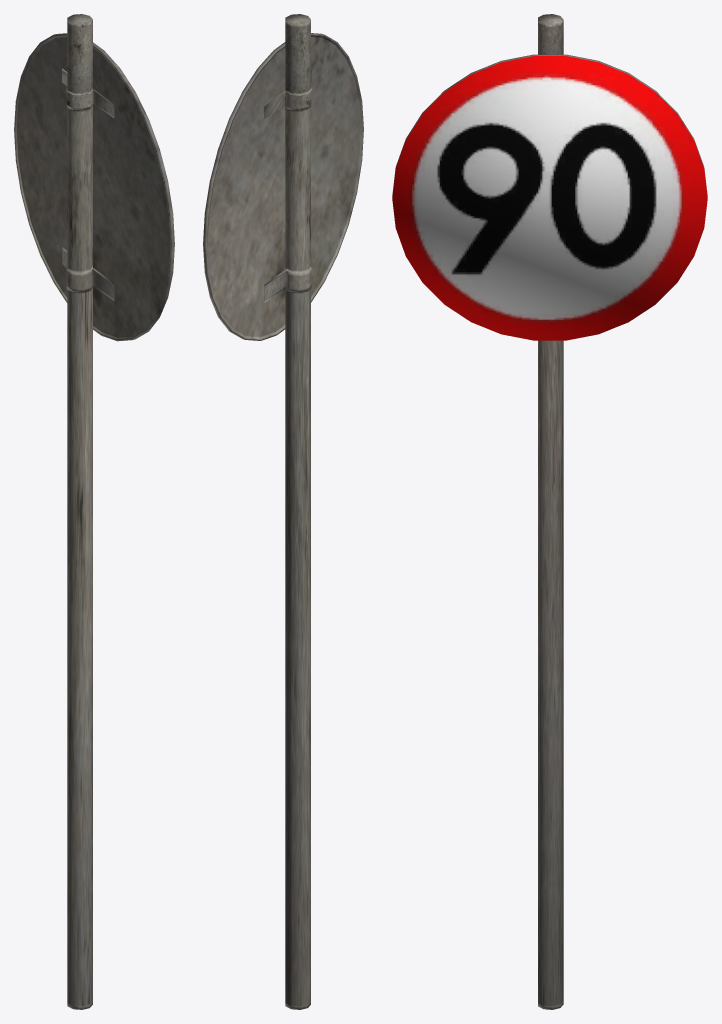
The model's file is znak_90.dae.
3 views of the same model, side by side, from view 1: azimuth 30°, elevation 25°; view 2: azimuth 150°, elevation 25°; view 3: azimuth 270°, elevation 25° (orthographic).
Parts seen in each view (by area): view 1: znak90_a65; view 2: znak90_a65; view 3: znak90_a65.
Boxes of the visible parts, x1,y1,x2,y2 form: znak90_a65: (14, 14, 174, 1009); znak90_a65: (203, 14, 363, 1009); znak90_a65: (392, 14, 707, 1009).
Size of the model in its own units: 0.06 by 0.5807 by 2.
Materials: 1 (1 with a texture image).
